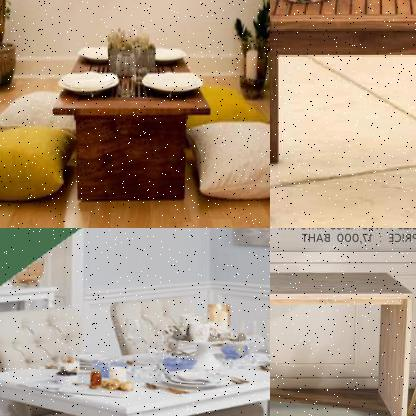table: (270, 0, 415, 227), (49, 42, 213, 205), (0, 325, 269, 415), (270, 264, 415, 415)
